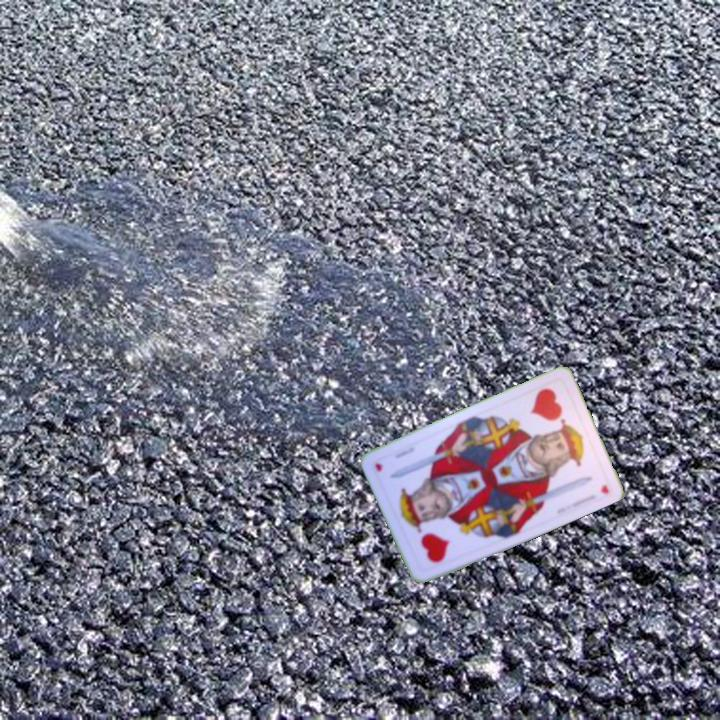h_k.png: (510, 376, 589, 458), (395, 493, 473, 576)
